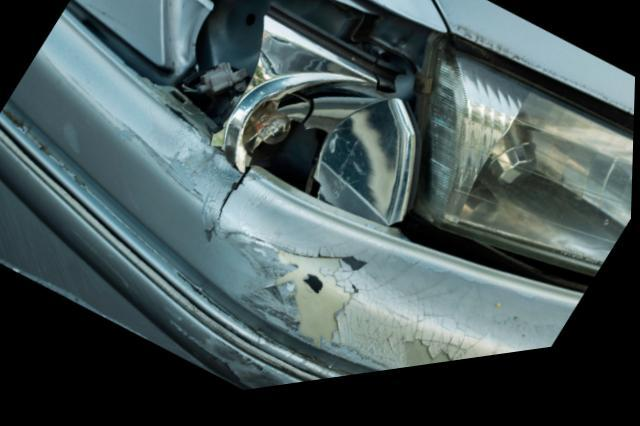crack: (219, 174, 251, 238)
dislocated part: (0, 0, 597, 397)
lamp broken: (222, 79, 411, 240)
no part: (169, 0, 449, 245)
scratch: (172, 234, 482, 397), (0, 250, 163, 351), (168, 142, 242, 240)
